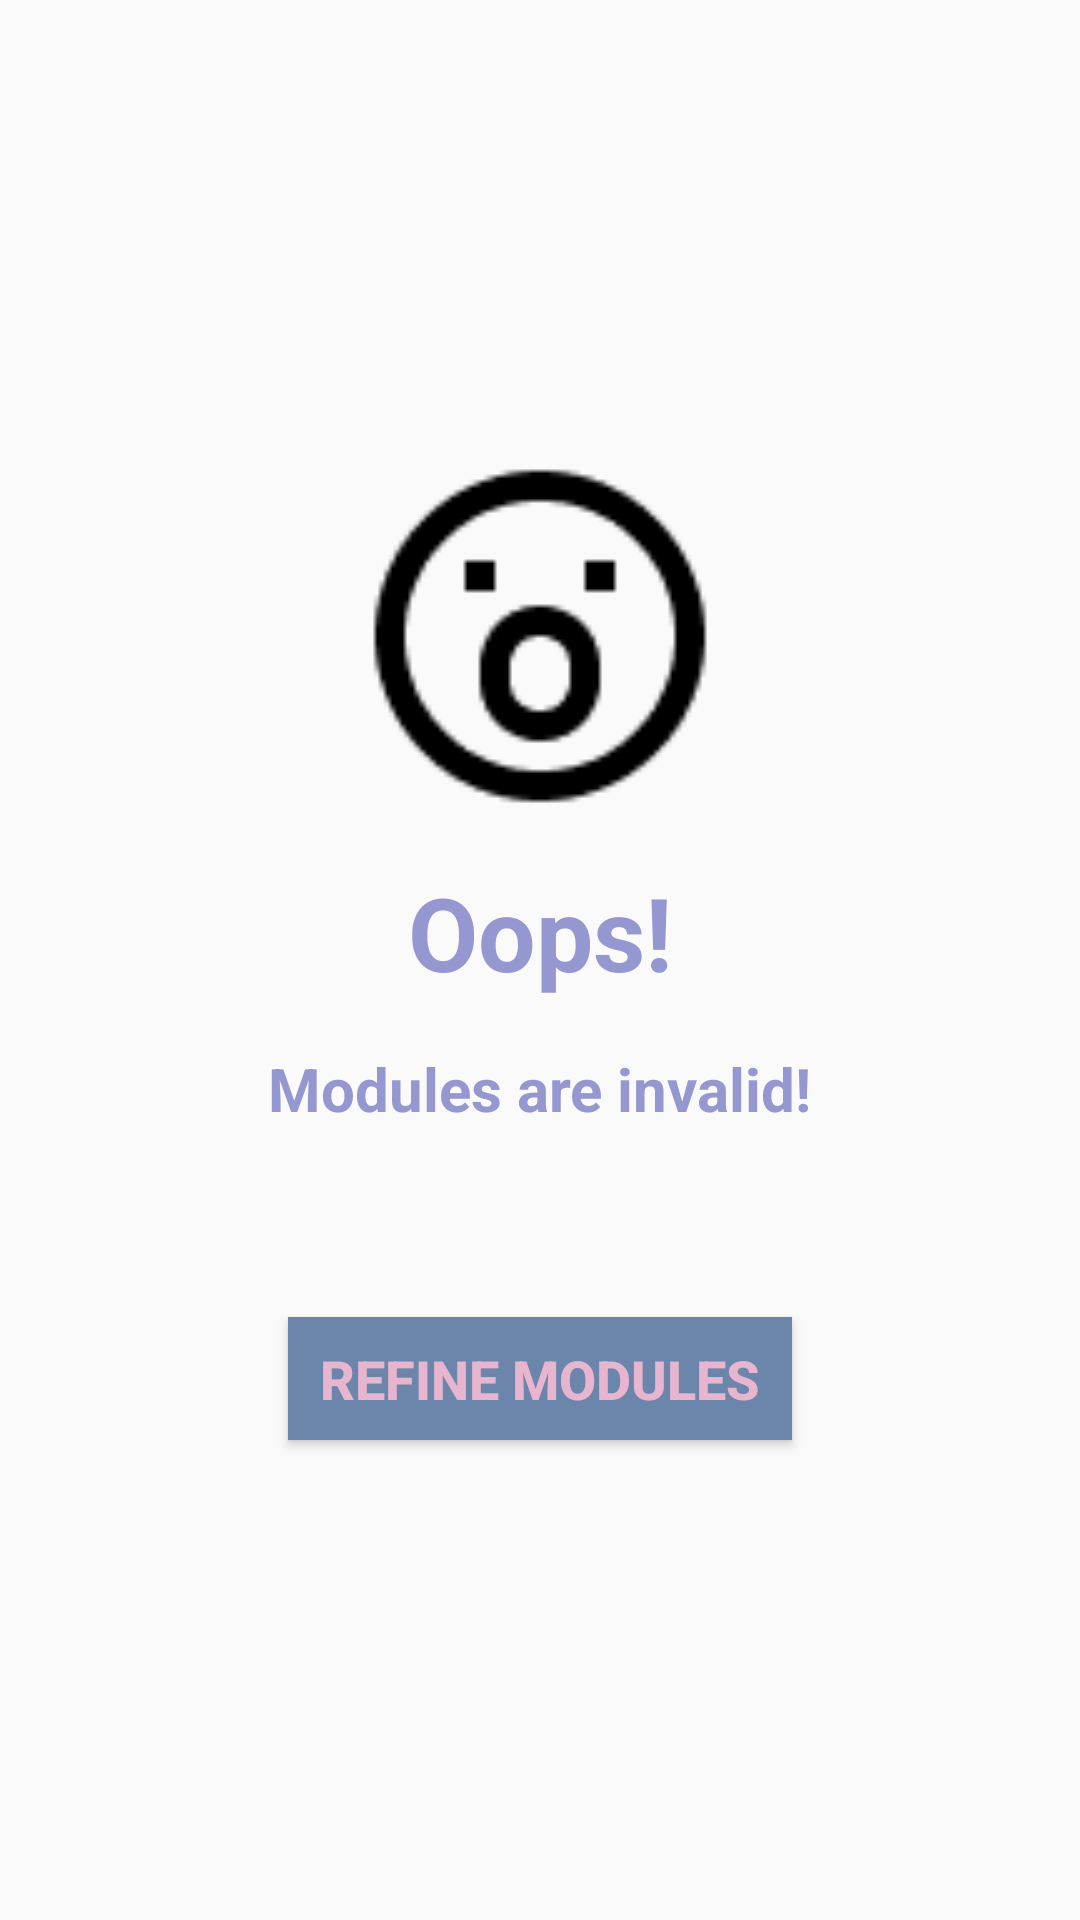

Named icons in this screenshot (1080 x 1920) and their bounding boxes, (x1, y1, x2, y2):
shocked: (373, 469, 707, 803)
